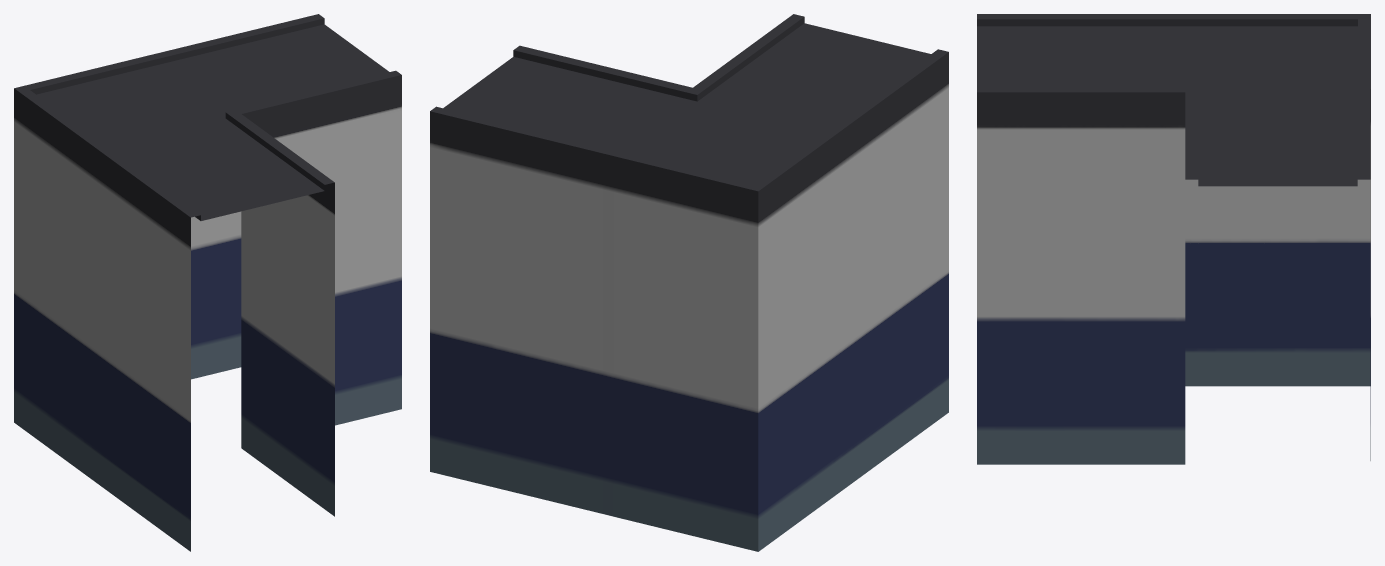
File: Parede1Curva.fbx
3 views of the same model, side by side, from view 1: azimuth 30°, elevation 25°; view 2: azimuth 150°, elevation 25°; view 3: azimuth 270°, elevation 25° (orthographic). The views are drawn at different scales.
Parts seen in each view (by area): view 1: Parede1Curva; view 2: Parede1Curva; view 3: Parede1Curva.
Part boxes in pixels (x1,y1,x2,y2): Parede1Curva: (14,14,401,551); Parede1Curva: (430,14,948,551); Parede1Curva: (977,14,1370,464).
Size of the model in its own units: 282 by 295 by 283.
